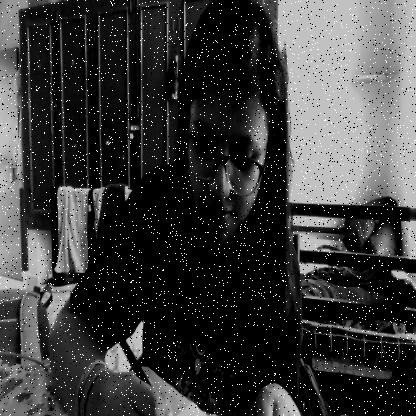Distracted: (183, 0, 289, 250)
